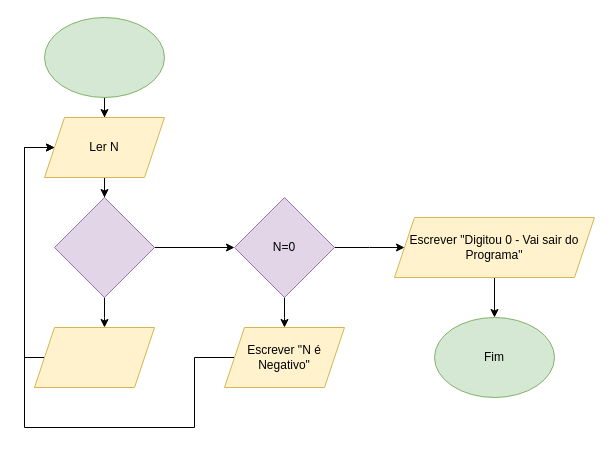
The diagram is 612 pixels wide and 453 high, and some of its shapes have lost their labels. Each missing label, with the centre of its shape:
Escrever "N é Positivo": pixel 94 357
Inicio: pixel 104 57
N>0: pixel 104 247
